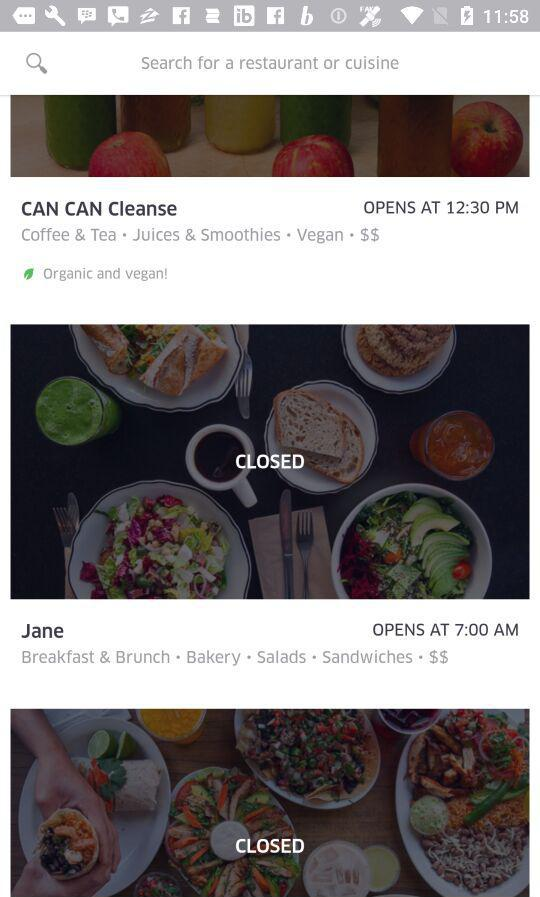Icon: (25, 53, 49, 75)
Image: (11, 325, 530, 600), (11, 709, 529, 897), (11, 95, 529, 178)
Text: (22, 649, 448, 667), (22, 228, 380, 245), (142, 56, 400, 71), (22, 200, 178, 217), (364, 200, 519, 215), (373, 622, 519, 637), (23, 268, 147, 283), (235, 837, 305, 854), (235, 453, 305, 470), (22, 623, 65, 639)
UpperTaskBar: (1, 1, 540, 33)
